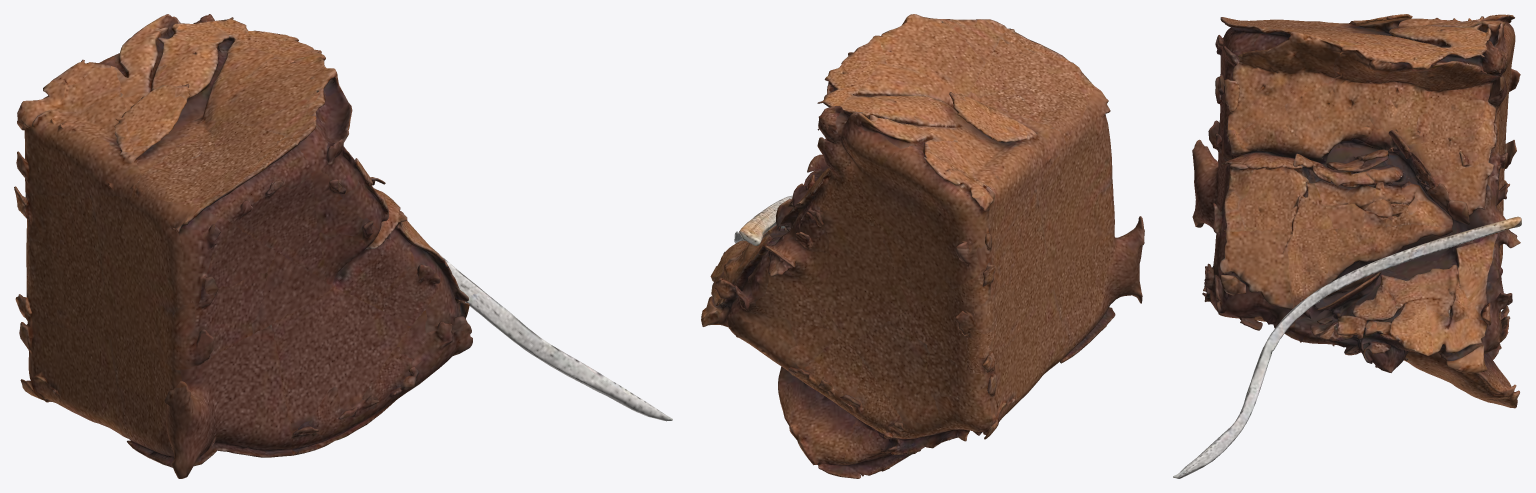
File: brownie.glb
The picture shows the model from 3 angles, left to right: view 1: azimuth 30°, elevation 25°; view 2: azimuth 150°, elevation 25°; view 3: azimuth 270°, elevation 25°; orthographic projection. The views are drawn at different scales.
Parts seen in each view (by area): view 1: tripo_node_a52ede1a-b6b0-4779-9df8-0b867594b06f; view 2: tripo_node_a52ede1a-b6b0-4779-9df8-0b867594b06f; view 3: tripo_node_a52ede1a-b6b0-4779-9df8-0b867594b06f.
Part boxes in pixels (left/top/right/bottom): tripo_node_a52ede1a-b6b0-4779-9df8-0b867594b06f: left=14, top=14, right=672, bottom=478; tripo_node_a52ede1a-b6b0-4779-9df8-0b867594b06f: left=701, top=14, right=1144, bottom=478; tripo_node_a52ede1a-b6b0-4779-9df8-0b867594b06f: left=1173, top=14, right=1521, bottom=478.
Size of the model in its own units: 0.9998 by 0.8553 by 0.6927.
1 material, 1 textured.
